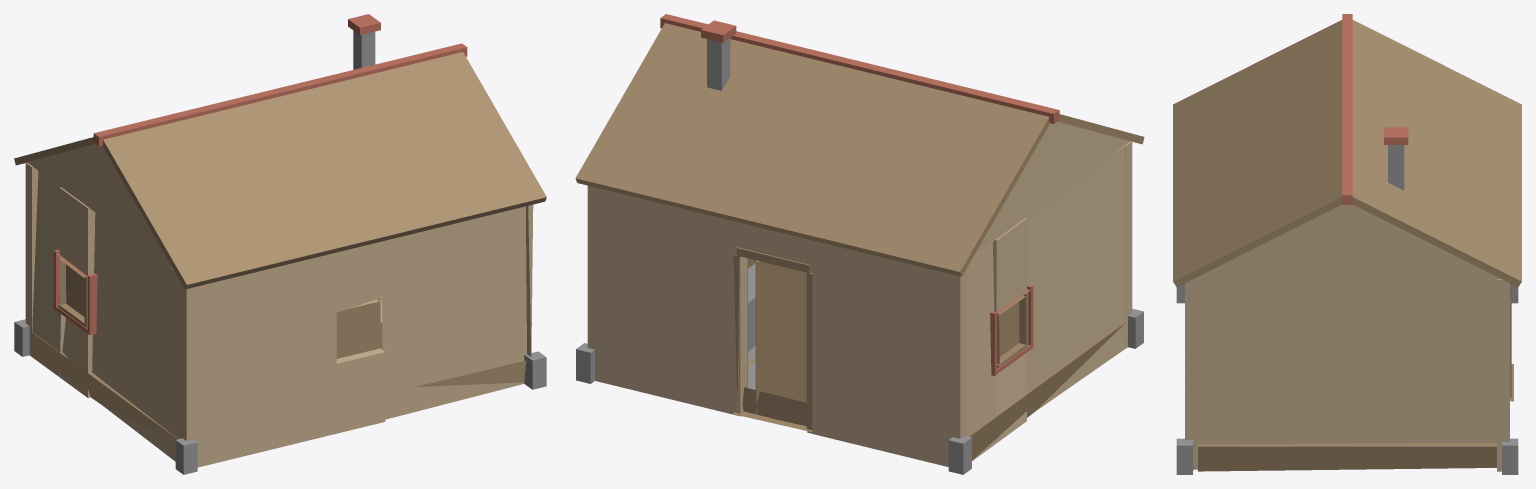
The model's file is 18-Casas_casa_choza_ampliada.glb.
3 renders of one model, left to right at view 1: azimuth 30°, elevation 25°; view 2: azimuth 150°, elevation 25°; view 3: azimuth 270°, elevation 25°, orthographic. The views are drawn at different scales.
Parts seen in each view (by area): view 1: SM_Zocalo_M_Casa_Madera_Clara, SM_Zocalo_M_Casa_Acento_Casa_Paja_Clara_Casa_Paja_Oscura_Cas, SM_Zocalo_M_Casa_Piedra_Casa_Piedra_Oscura, SM_Zocalo_M_Casa_Vidrio, SM_Zocalo_M_Casa_Madera_Oscura_Casa_Acento, SM_Zocalo_M_Casa_Piedra_Oscura_Casa_Bronce_Casa_Llama_Casa_A; view 2: SM_Zocalo_M_Casa_Madera_Clara, SM_Zocalo_M_Casa_Acento_Casa_Paja_Clara_Casa_Paja_Oscura_Cas, SM_Zocalo_M_Casa_Madera_Oscura_Casa_Madera_Clara_Casa_Bronce, SM_Zocalo_M_Casa_Piedra_Casa_Piedra_Oscura, SM_Zocalo_M_Casa_Madera_Oscura_Casa_Piedra, SM_Zocalo_M_Casa_Piedra_Oscura_Casa_Bronce_Casa_Llama_Casa_A, SM_Zocalo_M_Casa_Madera_Oscura_Casa_Acento, SM_Zocalo_M_Casa_Vidrio; view 3: SM_Zocalo_M_Casa_Acento_Casa_Paja_Clara_Casa_Paja_Oscura_Cas, SM_Zocalo_M_Casa_Madera_Clara, SM_Zocalo_M_Casa_Piedra_Casa_Piedra_Oscura, SM_Zocalo_M_Casa_Piedra_Oscura_Casa_Bronce_Casa_Llama_Casa_A.
Part boxes in pixels (box(x1,y1,x2,y2)): SM_Zocalo_M_Casa_Madera_Clara: box(25, 162, 533, 467); SM_Zocalo_M_Casa_Acento_Casa_Paja_Clara_Casa_Paja_Oscura_Cas: box(14, 43, 546, 289); SM_Zocalo_M_Casa_Piedra_Casa_Piedra_Oscura: box(14, 319, 546, 474); SM_Zocalo_M_Casa_Vidrio: box(66, 264, 380, 358); SM_Zocalo_M_Casa_Madera_Oscura_Casa_Acento: box(53, 249, 97, 335); SM_Zocalo_M_Casa_Piedra_Oscura_Casa_Bronce_Casa_Llama_Casa_A: box(348, 14, 381, 295); SM_Zocalo_M_Casa_Madera_Clara: box(587, 141, 1132, 466); SM_Zocalo_M_Casa_Acento_Casa_Paja_Clara_Casa_Paja_Oscura_Cas: box(575, 14, 1144, 276); SM_Zocalo_M_Casa_Madera_Oscura_Casa_Madera_Clara_Casa_Bronce: box(755, 260, 806, 413); SM_Zocalo_M_Casa_Piedra_Casa_Piedra_Oscura: box(576, 258, 1143, 474); SM_Zocalo_M_Casa_Madera_Oscura_Casa_Piedra: box(733, 247, 813, 431); SM_Zocalo_M_Casa_Piedra_Oscura_Casa_Bronce_Casa_Llama_Casa_A: box(701, 20, 755, 351); SM_Zocalo_M_Casa_Madera_Oscura_Casa_Acento: box(990, 284, 1033, 375); SM_Zocalo_M_Casa_Vidrio: box(999, 302, 1019, 356); SM_Zocalo_M_Casa_Acento_Casa_Paja_Clara_Casa_Paja_Oscura_Cas: box(1173, 14, 1521, 287); SM_Zocalo_M_Casa_Madera_Clara: box(1185, 279, 1509, 471); SM_Zocalo_M_Casa_Piedra_Casa_Piedra_Oscura: box(1176, 283, 1518, 474); SM_Zocalo_M_Casa_Piedra_Oscura_Casa_Bronce_Casa_Llama_Casa_A: box(1384, 127, 1408, 190).
Size of the model in its own units: 5.28 by 4.16 by 4.29.
